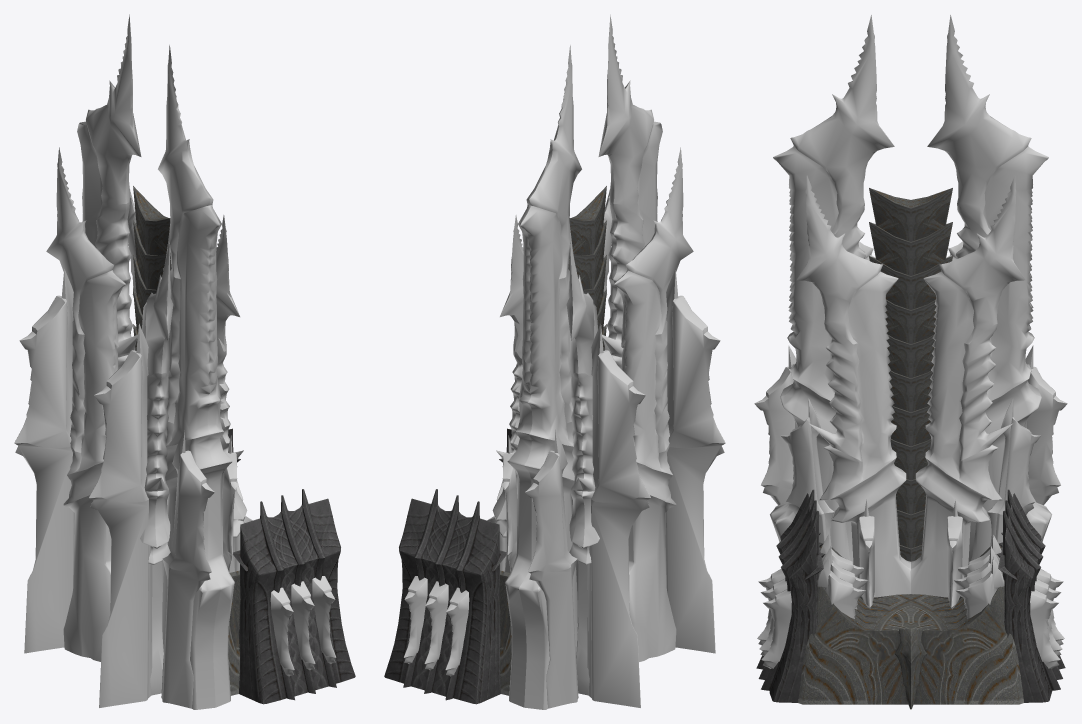
The model's file is bg_rad_kamen_chair01_sm_cjy.obj.
The picture shows the model from 3 angles, left to right: view 1: azimuth 30°, elevation 25°; view 2: azimuth 150°, elevation 25°; view 3: azimuth 270°, elevation 25°; orthographic projection.
Visible parts, largest first — view 1: bg_rad_kamen_chair01_sm_cjy_1, bg_rad_kamen_chair01_sm_cjy_2, bg_rad_kamen_chair01_sm_cjy_3, bg_rad_kamen_chair01_sm_cjy_0; view 2: bg_rad_kamen_chair01_sm_cjy_1, bg_rad_kamen_chair01_sm_cjy_2, bg_rad_kamen_chair01_sm_cjy_3, bg_rad_kamen_chair01_sm_cjy_0; view 3: bg_rad_kamen_chair01_sm_cjy_1, bg_rad_kamen_chair01_sm_cjy_0, bg_rad_kamen_chair01_sm_cjy_2, bg_rad_kamen_chair01_sm_cjy_3.
Part boxes in pixels (left/top/right/bottom): bg_rad_kamen_chair01_sm_cjy_1: left=46, top=14, right=247, bottom=709; bg_rad_kamen_chair01_sm_cjy_2: left=14, top=269, right=336, bottom=708; bg_rad_kamen_chair01_sm_cjy_3: left=228, top=428, right=355, bottom=704; bg_rad_kamen_chair01_sm_cjy_0: left=133, top=186, right=240, bottom=695; bg_rad_kamen_chair01_sm_cjy_1: left=492, top=14, right=693, bottom=709; bg_rad_kamen_chair01_sm_cjy_2: left=403, top=269, right=725, bottom=708; bg_rad_kamen_chair01_sm_cjy_3: left=384, top=428, right=511, bottom=704; bg_rad_kamen_chair01_sm_cjy_0: left=499, top=186, right=606, bottom=695; bg_rad_kamen_chair01_sm_cjy_1: left=770, top=15, right=1051, bottom=597; bg_rad_kamen_chair01_sm_cjy_0: left=798, top=188, right=1023, bottom=709; bg_rad_kamen_chair01_sm_cjy_2: left=754, top=345, right=1067, bottom=668; bg_rad_kamen_chair01_sm_cjy_3: left=756, top=489, right=1065, bottom=702.
Bounding box in the file's own units: 2.54 × 6.3 × 2.86.
4 materials, 2 textured.
